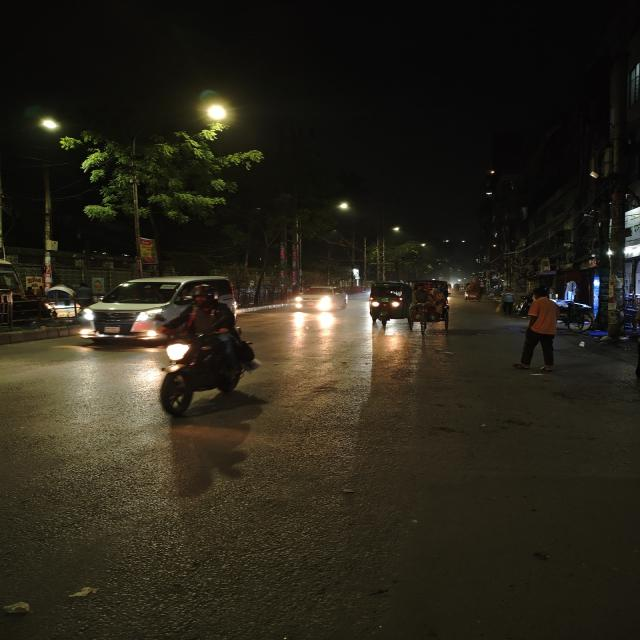car: (78, 275, 252, 349), (287, 283, 350, 315)
cng: (362, 280, 409, 328)
motorcycle: (134, 271, 268, 427)
pedestrian: (515, 286, 568, 373), (498, 286, 516, 315)
rickshaw: (404, 278, 455, 335), (38, 283, 84, 323), (463, 278, 488, 303)
